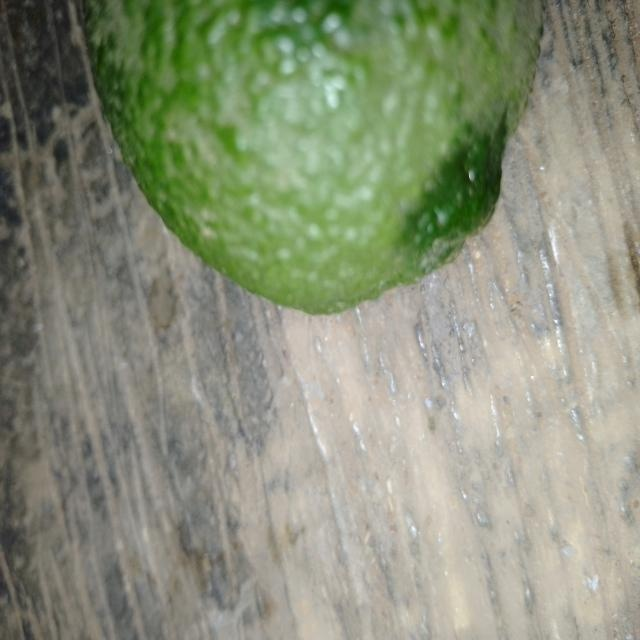agrume: (57, 0, 565, 322)
